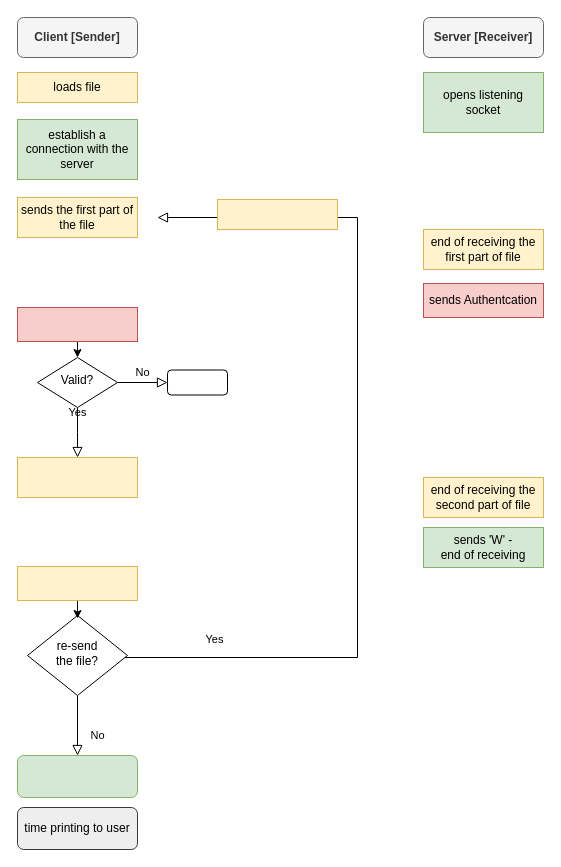
The diagram is 561 pixels wide and 867 high, and some of its shapes have lost their labels. Here are the shapes that lost their labels. From the top down, the centre of each, then its label:
the point at 277,214: loads second file
the point at 77,324: receives & check Authentication
the point at 197,382: Error
the point at 77,477: sends the second part of the file
the point at 77,583: questions the user
the point at 77,776: close the connection
